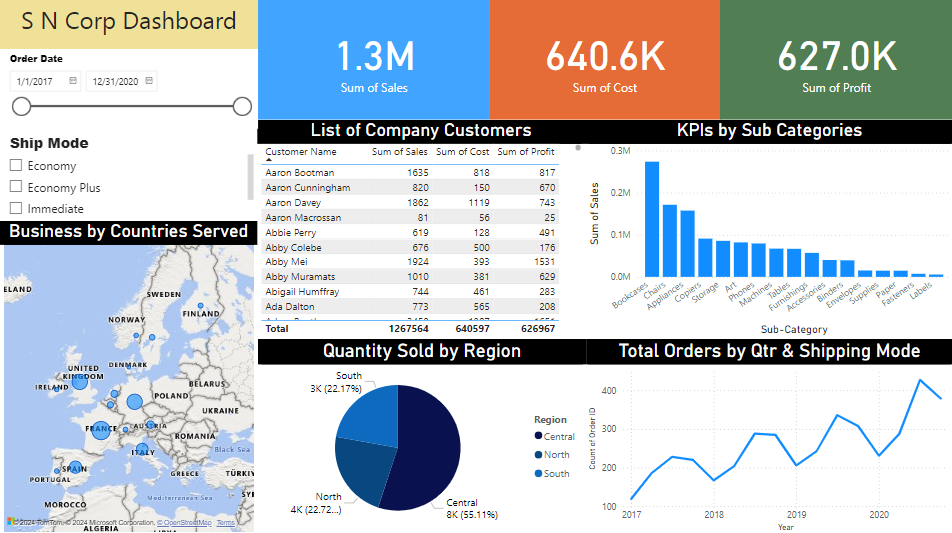

The dashboard page shown, as its layout file describes it:
{"tool":"powerbi","page":{"name":"Page 1","canvas":[1280,720],"ordinal":0},"visuals":[{"type":"card","fields":{"Values":["List of Orders.Sales"]},"box":[345.7,0,311.4,162.9],"z":0},{"type":"card","fields":{"Values":["List of Orders.Cost"]},"box":[657.1,0,308.6,162.9],"z":1000},{"type":"card","fields":{"Values":["List of Orders.Profit"]},"box":[965.7,0,312.9,162.9],"z":2000},{"type":"tableEx","title":"List of Company Customers","fields":{"Values":["List of Orders.Customer Name","List of Orders.Sales","List of Orders.Cost","List of Orders.Profit"]},"box":[345,163.3,440,293.3],"z":3000},{"type":"clusteredColumnChart","title":"KPIs by Sub Categories","fields":{"Category":["List of Orders.Sub-Category"],"Y":["List of Orders.Sales"]},"box":[785,163.3,495,293.3],"z":4000},{"type":"lineChart","title":"Total Orders by Qtr & Shipping Mode","fields":{"Y":["List of Orders.Order ID"],"Category":["List of Orders.Order Date.Variation.Date Hierarchy.Year","List of Orders.Order Date.Variation.Date Hierarchy.Quarter"]},"box":[785,456.7,495,263.3],"z":5000},{"type":"pieChart","title":"Quantity Sold by Region","fields":{"Y":["List of Orders.Quantity"],"Category":["List of Orders.Region"]},"box":[345.7,457.1,440,262.9],"z":6000},{"type":"map","title":"Business by Countries Served","fields":{"Category":["List of Orders.Country"],"Size":["List of Orders.Sales"]},"box":[0,298.3,345,421.7],"z":7000},{"type":"textbox","box":[0,1.4,345.7,67.1],"z":8000},{"type":"slicer","fields":{"Values":["List of Orders.Ship Mode"]},"box":[0,175,345,123.3],"z":9000},{"type":"slicer","fields":{"Values":["List of Orders.Order Date"]},"box":[0,68.6,345.7,107.1],"z":10000}]}

Visuals, with their boxes in screenshot pixels (x1, y1, x2, y2), scaled from the page's 1280x720 canvas onto the 952x533 screenshot:
card - List of Orders.Sales: 257,0,489,121
card - List of Orders.Cost: 489,0,718,121
card - List of Orders.Profit: 718,0,951,121
"List of Company Customers" tableEx: 257,121,584,338
"KPIs by Sub Categories" clusteredColumnChart: 584,121,951,338
"Total Orders by Qtr & Shipping Mode" lineChart: 584,338,951,532
"Quantity Sold by Region" pieChart: 257,338,584,532
"Business by Countries Served" map: 0,221,257,532
textbox: 0,1,257,51
slicer - List of Orders.Ship Mode: 0,130,257,221
slicer - List of Orders.Order Date: 0,51,257,130
